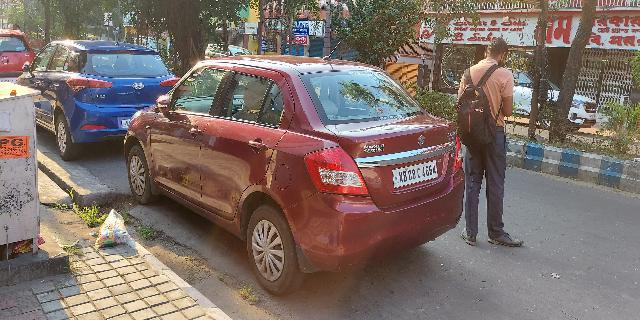Car: (118, 50, 465, 292), (15, 37, 177, 150)
